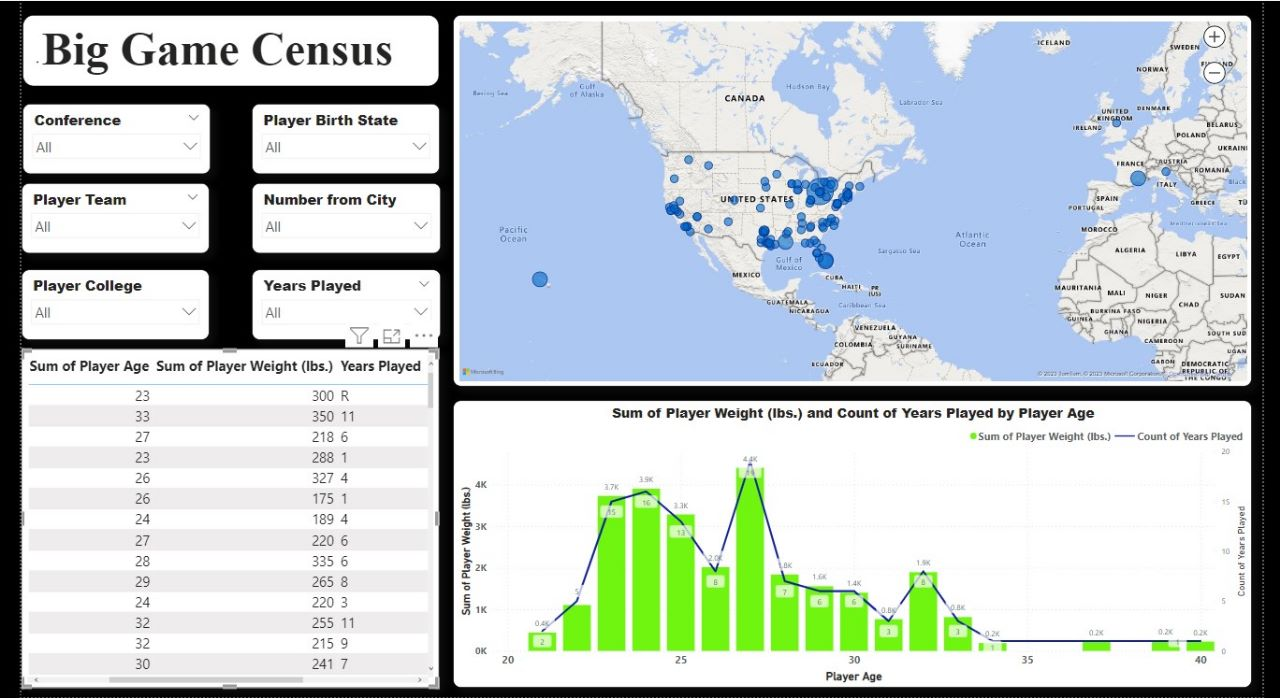

Layout of this report page (visuals, bound fields, positions):
{"tool":"powerbi","page":{"name":"Page 2","canvas":[1920,1080],"ordinal":3},"visuals":[{"type":"lineClusteredColumnComboChart","fields":{"Category":["Big Game Census data (revised).Player Age"],"Y":["Big Game Census data (revised).Player Weight (lbs.)"],"Y2":["Big Game Census data (revised).Years Played"]},"box":[667.5,618.7,1235.6,445],"z":0},{"type":"slicer","fields":{"Values":["Big Game Census data (revised).Conference"]},"box":[2.1,158.5,290.2,109.1],"z":1000},{"type":"slicer","fields":{"Values":["Big Game Census data (revised).Player Team"]},"box":[0,282,290.2,109.1],"z":2000},{"type":"slicer","fields":{"Values":["Big Game Census data (revised).Player Birth State"]},"box":[356.1,158.5,290.2,109.1],"z":3000},{"type":"slicer","fields":{"Values":["Big Game Census data (revised).Number from City"]},"box":[356.1,282,292.3,109.1],"z":4000},{"type":"slicer","fields":{"Values":["Big Game Census data (revised).Player College"]},"box":[0,415.8,290.2,109.1],"z":5000},{"type":"map","fields":{"Category":["Big Game Census data (revised).Player Birthplace (city, town, etc.)"],"Size":["Big Game Census data (revised).Number from City"]},"box":[667.5,21.7,1235.6,575.3],"z":6000},{"type":"slicer","fields":{"Values":["Big Game Census data (revised).Years Played"]},"box":[356.1,415.8,292.3,109.1],"z":7000},{"type":"tableEx","fields":{"Values":["Big Game Census data (revised).Player Name","Big Game Census data (revised).Player Age","Big Game Census data (revised).Player Weight (lbs.)","Big Game Census data (revised).Years Played","Big Game Census data (revised).Player Birthplace (city, town, etc.)"]},"box":[0,539.3,646.3,524.9],"z":8000},{"type":"textbox","box":[1.8,21.7,644,110.4],"z":8001}]}

Visuals, with their boxes on the page's 1920x1080 design canvas (x1, y1, x2, y2). These are canvas units, not pixel positions in the 1280x698 screenshot, which may show the page scaled, cropped or inside an application window:
lineClusteredColumnComboChart - Big Game Census data (revised).Player Age x Big Game Census data (revised).Player Weight (lbs.): pyautogui.locateOnScreen(668, 619, 1903, 1064)
slicer - Big Game Census data (revised).Conference: pyautogui.locateOnScreen(2, 158, 292, 268)
slicer - Big Game Census data (revised).Player Team: pyautogui.locateOnScreen(0, 282, 290, 391)
slicer - Big Game Census data (revised).Player Birth State: pyautogui.locateOnScreen(356, 158, 646, 268)
slicer - Big Game Census data (revised).Number from City: pyautogui.locateOnScreen(356, 282, 648, 391)
slicer - Big Game Census data (revised).Player College: pyautogui.locateOnScreen(0, 416, 290, 525)
map - Big Game Census data (revised).Player Birthplace (city, town, etc.) x Big Game Census data (revised).Number from City: pyautogui.locateOnScreen(668, 22, 1903, 597)
slicer - Big Game Census data (revised).Years Played: pyautogui.locateOnScreen(356, 416, 648, 525)
tableEx - Big Game Census data (revised).Player Name x Big Game Census data (revised).Player Age: pyautogui.locateOnScreen(0, 539, 646, 1064)
textbox: pyautogui.locateOnScreen(2, 22, 646, 132)
